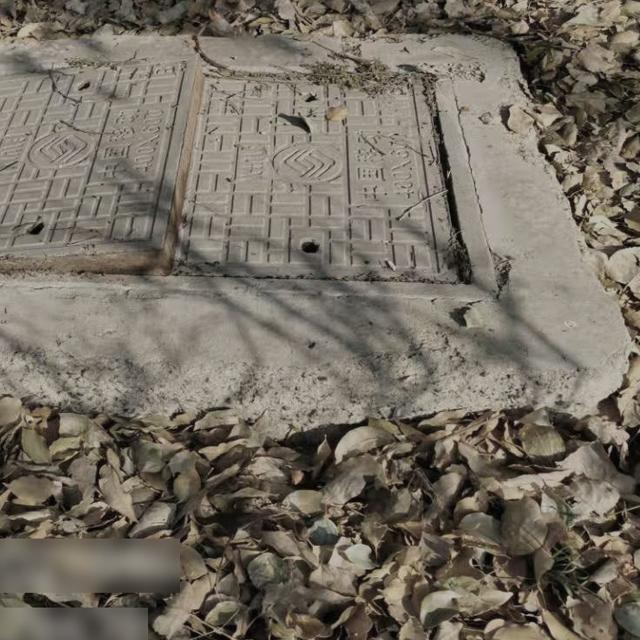uncovered: (0, 59, 499, 303)
